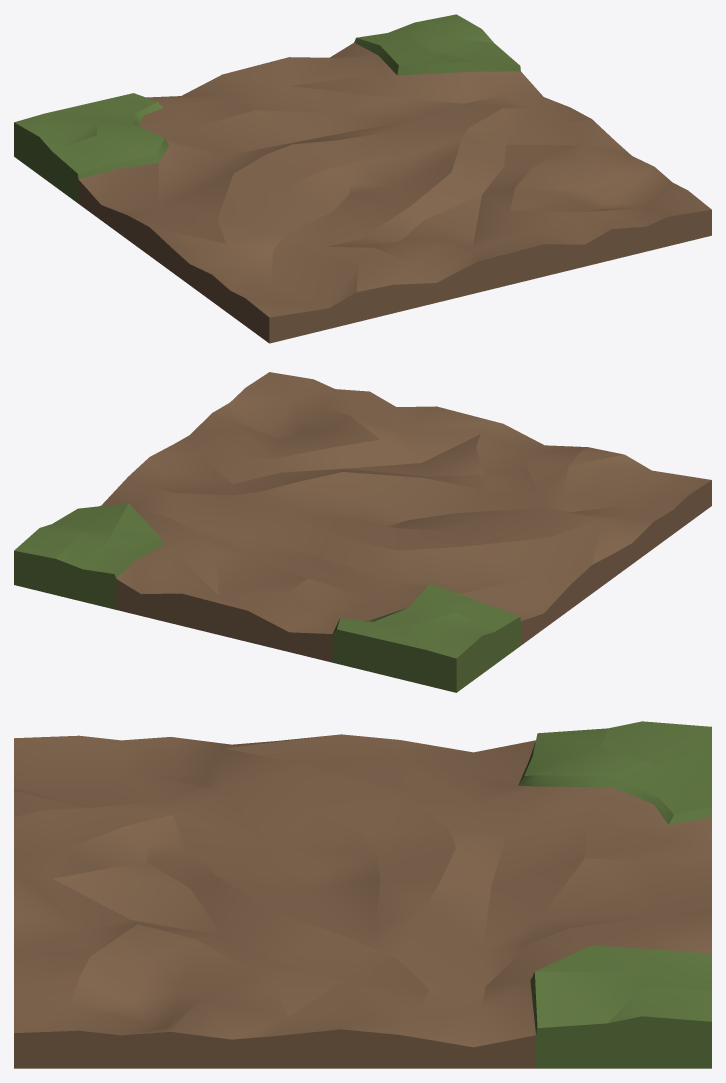
File: Ground_Path_Entrance_U.glb
3 views of the same model, one above another, from view 1: azimuth 30°, elevation 25°; view 2: azimuth 150°, elevation 25°; view 3: azimuth 270°, elevation 25° (orthographic). The views are drawn at different scales.
Visible parts, largest first — view 1: Ground_Path_Entrance_U; view 2: Ground_Path_Entrance_U; view 3: Ground_Path_Entrance_U.
Boxes of the visible parts, <box> form: Ground_Path_Entrance_U: <box>14,14,711,343</box>; Ground_Path_Entrance_U: <box>14,372,711,692</box>; Ground_Path_Entrance_U: <box>14,721,711,1068</box>.
Size of the model in its own units: 1.47 by 0.1477 by 1.47.
